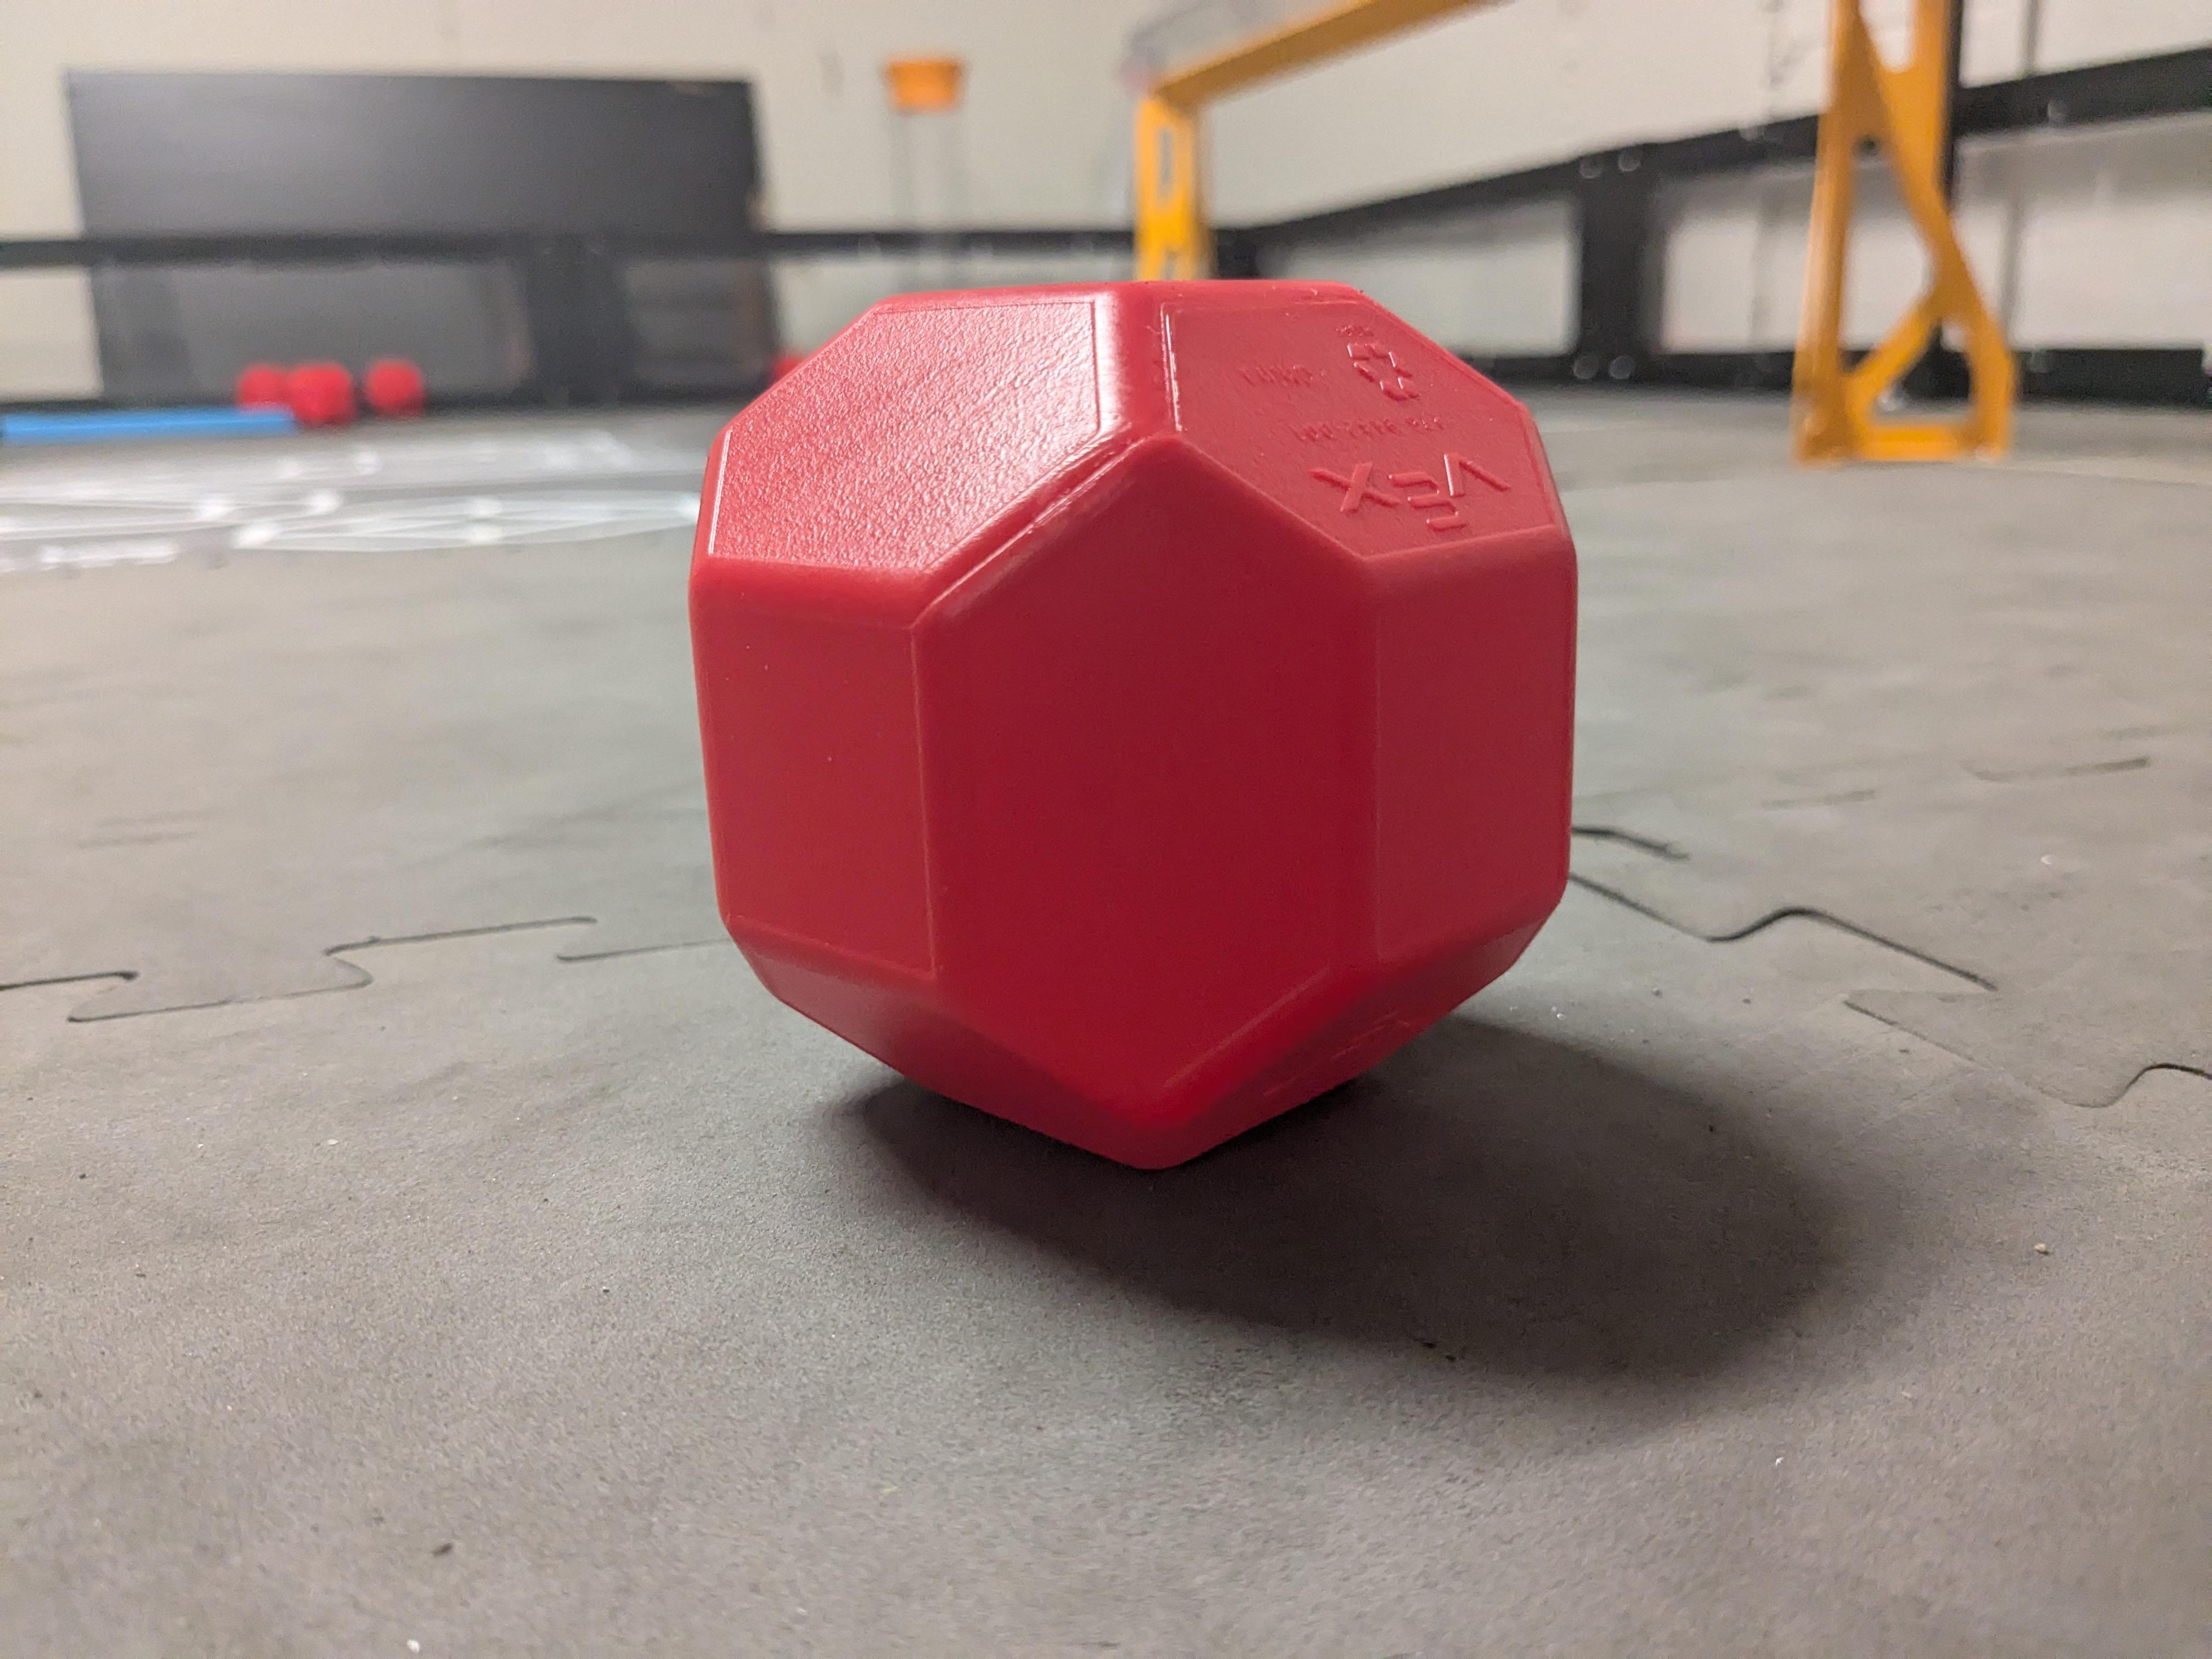Vex-Pieces-RED: (690, 279, 1576, 1168)
